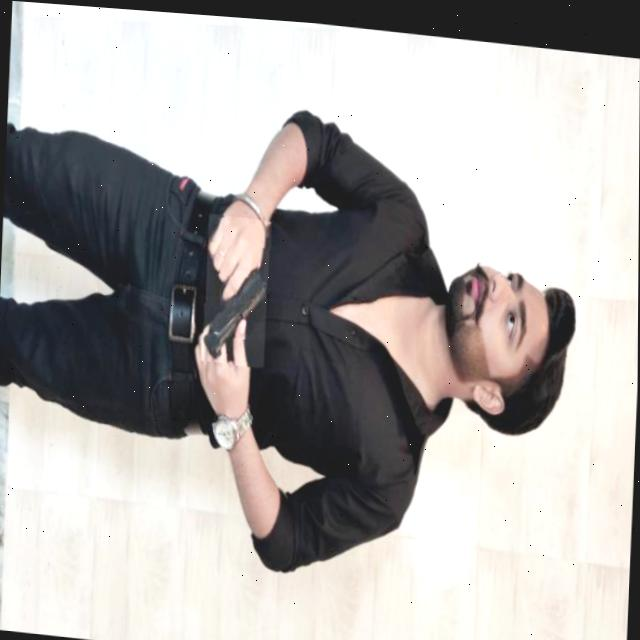pistol: (201, 210, 269, 364)
